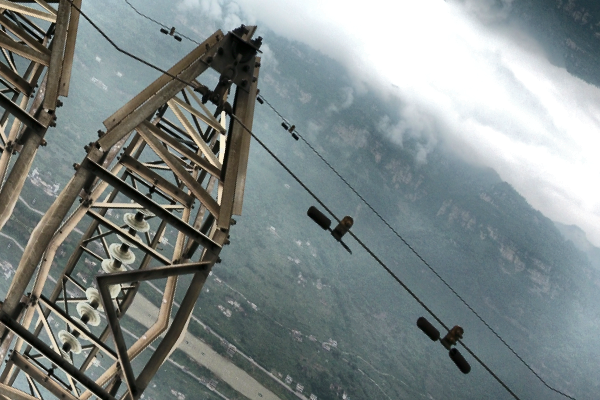damper: (414, 313, 471, 378), (158, 23, 183, 42), (280, 119, 300, 142)
damper_defect: (302, 199, 361, 258)
